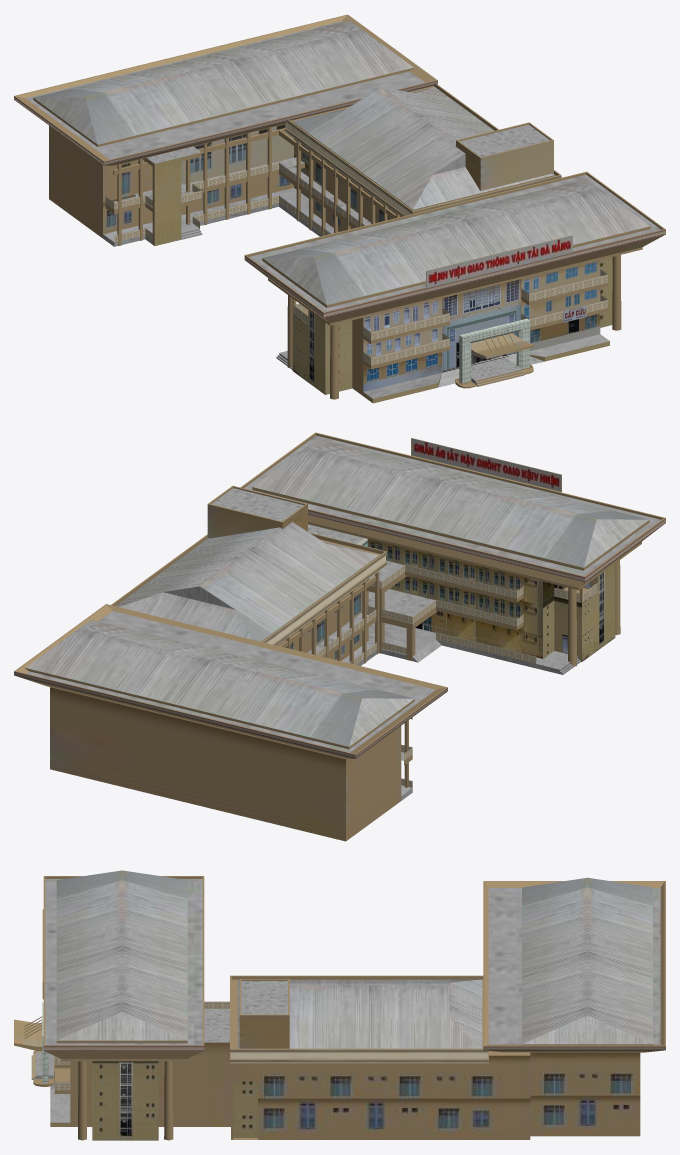
3 views of the same model, one above another, from view 1: azimuth 30°, elevation 25°; view 2: azimuth 150°, elevation 25°; view 3: azimuth 270°, elevation 25° (orthographic). The views are drawn at different scales.
Visible parts, largest first — view 1: DN33_BVGiaoThongVanTai; view 2: DN33_BVGiaoThongVanTai; view 3: DN33_BVGiaoThongVanTai.
Part boxes in pixels (x1,y1,x2,y2): DN33_BVGiaoThongVanTai: (14,14,665,403); DN33_BVGiaoThongVanTai: (14,432,665,841); DN33_BVGiaoThongVanTai: (14,870,665,1140).
Size of the model in its own units: 51.51 by 18.24 by 82.82.
1 material, 1 textured.
